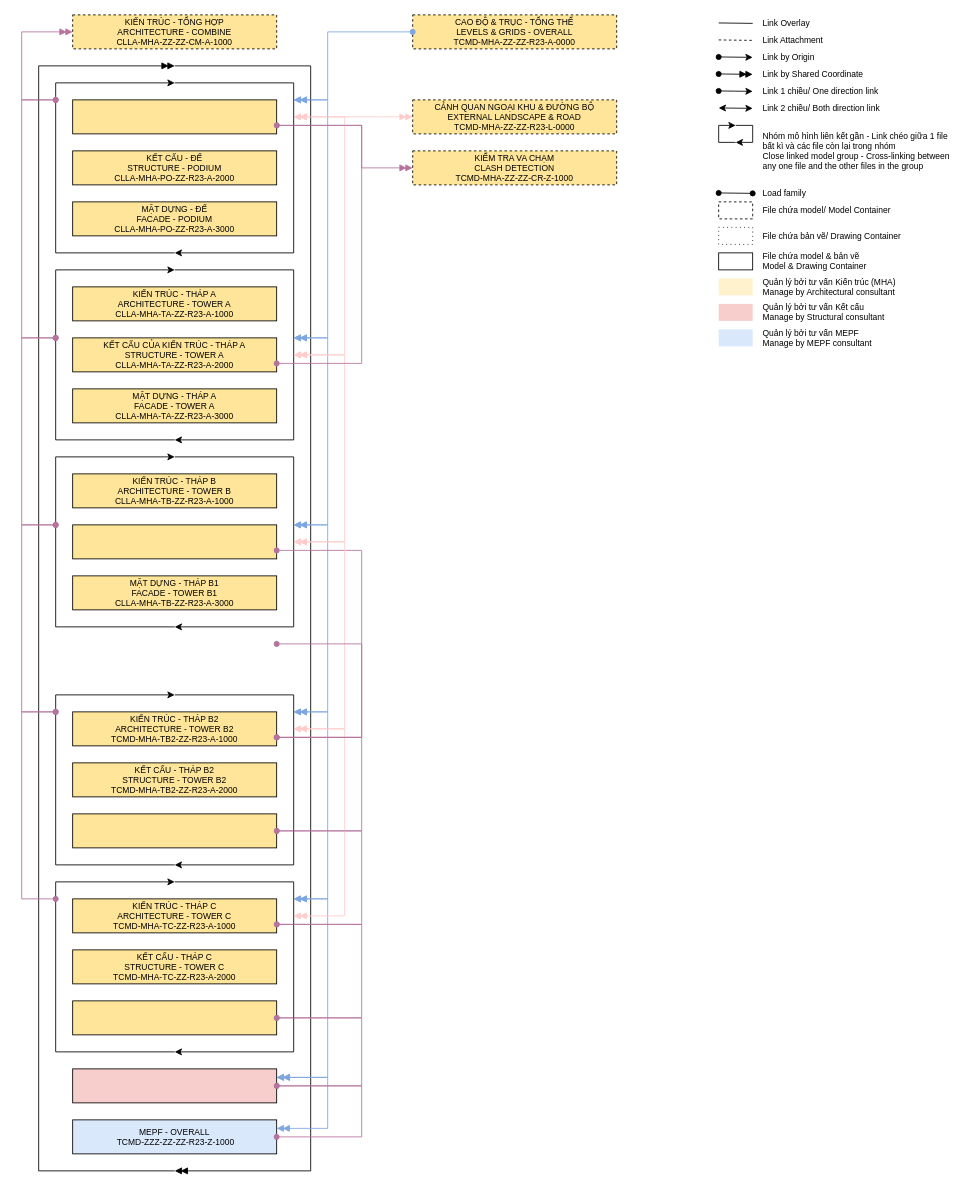
Image size: 972x1193. Some labels were removed from this diagram. The shapes that lost their labels are listed below. From the top down, each one's centre as x and y in pixels, then its label:
the point at 174,116: KIẾN TRÚC - ĐẾ ARCHITECTURE - PODIUM CLLA-MHA-PO-ZZ-R23-A-1000
the point at 174,541: KẾT CẤU CỦA KIẾN TRÚC - THÁP B1 STRUCTURE - TOWER B1 CLLA-MHA-TB-ZZ-R23-A-2000
the point at 174,830: MẶT DỰNG - THÁP B2 FACADE - TOWER B2 TCMD-MHA-TB2-ZZ-R23-A-3000
the point at 174,1017: MẶT DỰNG - THÁP C FACADE - TOWER C TCMD-MHA-TC-ZZ-R23-A-3000
the point at 174,1085: KẾT CẤU - TOÀN KHU STRUCTURE - OVERALL TCMD-ZZZ-ZZ-ZZ-R23-S-1000
